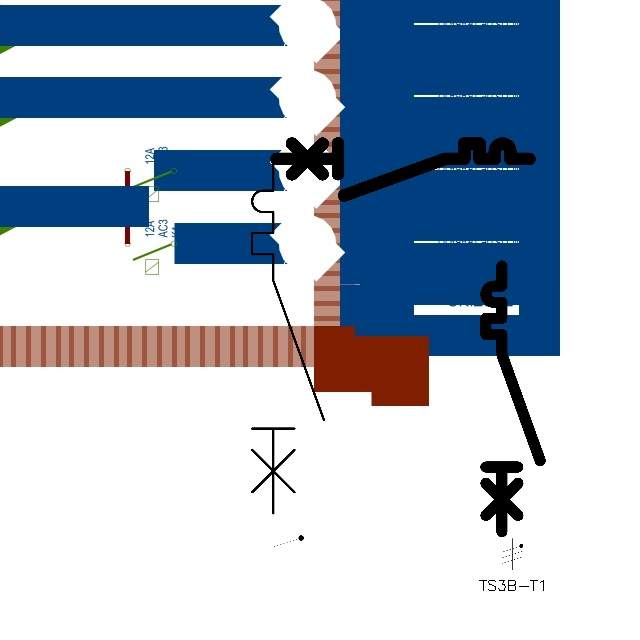interruptor_termomagnetico: (243, 155, 333, 522), (479, 259, 547, 538), (270, 137, 536, 202)
